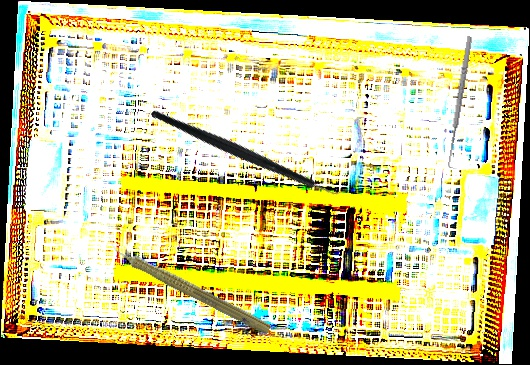Chopper: (149, 52, 354, 253)
Handpiece: (101, 234, 275, 338)
Hook Surgical: (444, 35, 479, 170)
